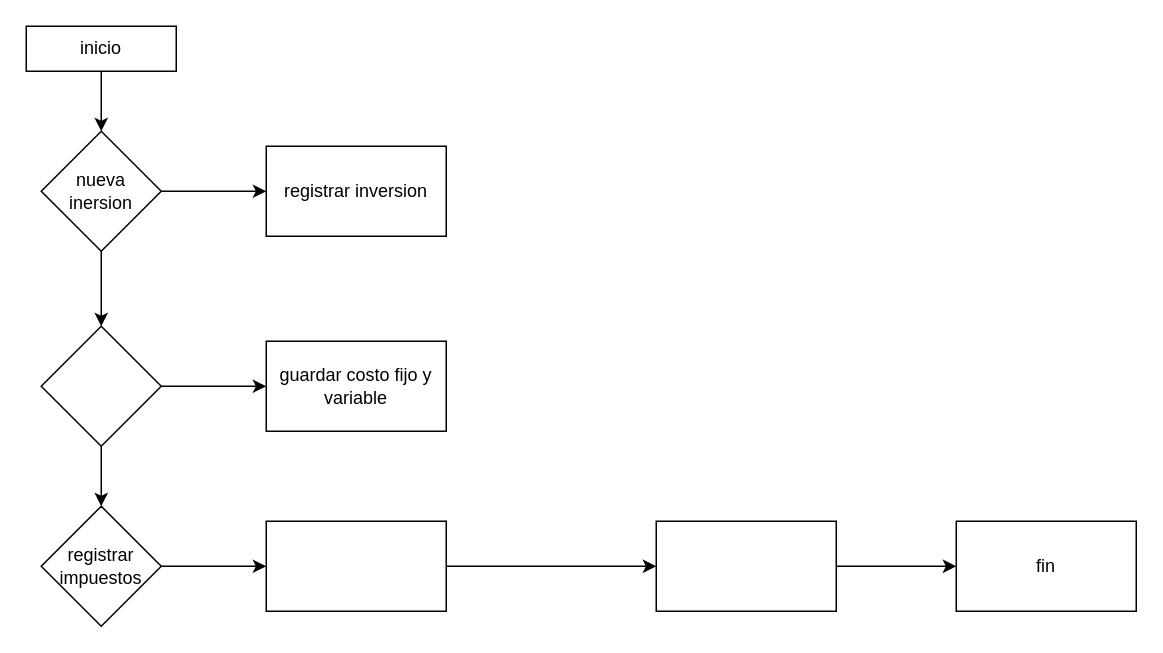
Image size: 1163x653. Some labels were removed from this diagram. Each missing label, with the box of its shape:
calcular IVA, ISR y otros: (265, 520, 446, 611)
generar reporte: (655, 520, 836, 611)
registrar costos: (40, 325, 161, 446)
